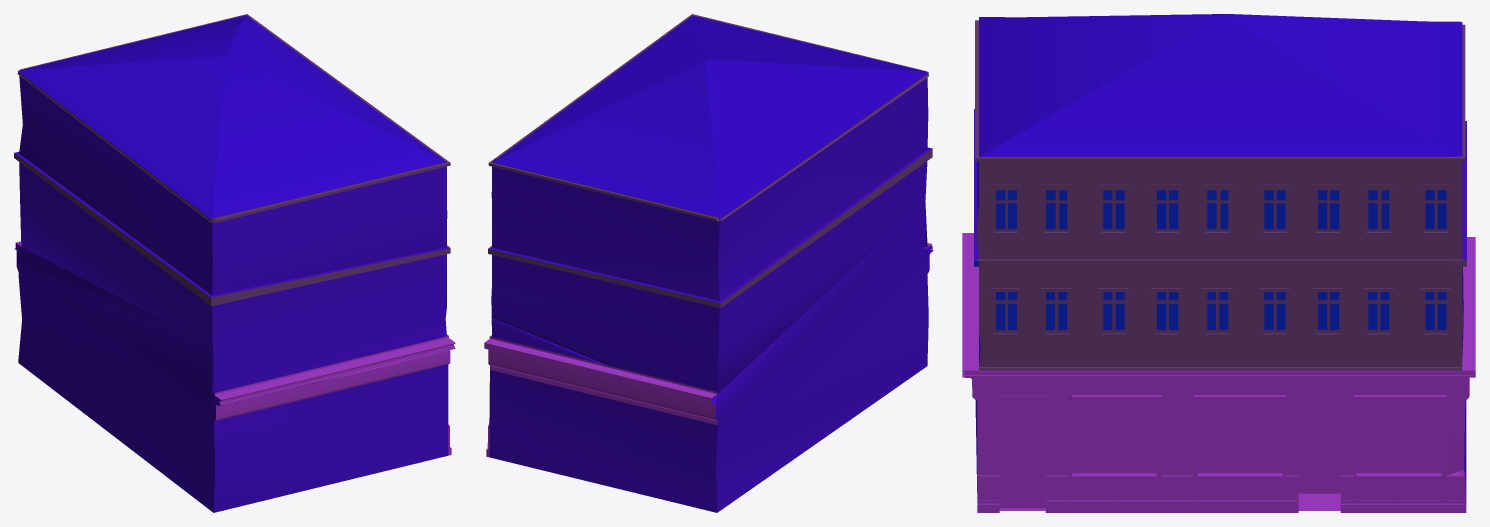
File: purpleHouse.obj
The picture shows the model from 3 angles, left to right: view 1: azimuth 30°, elevation 25°; view 2: azimuth 150°, elevation 25°; view 3: azimuth 270°, elevation 25°; orthographic projection. The views are drawn at different scales.
Parts seen in each view (by area): view 1: 4; view 2: 4; view 3: 4.
Part boxes in pixels (<box>): 4: <box>14,14,455,512</box>; 4: <box>484,14,933,512</box>; 4: <box>962,14,1475,512</box>.
Size of the model in its own units: 1.44 by 2.01 by 2.2.
